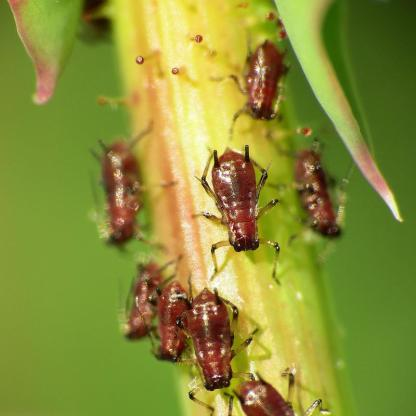aphid: (191, 142, 292, 268), (174, 275, 250, 393), (87, 136, 157, 256), (289, 137, 362, 252), (226, 25, 304, 128), (113, 256, 171, 354), (224, 366, 318, 416), (149, 276, 193, 376)
